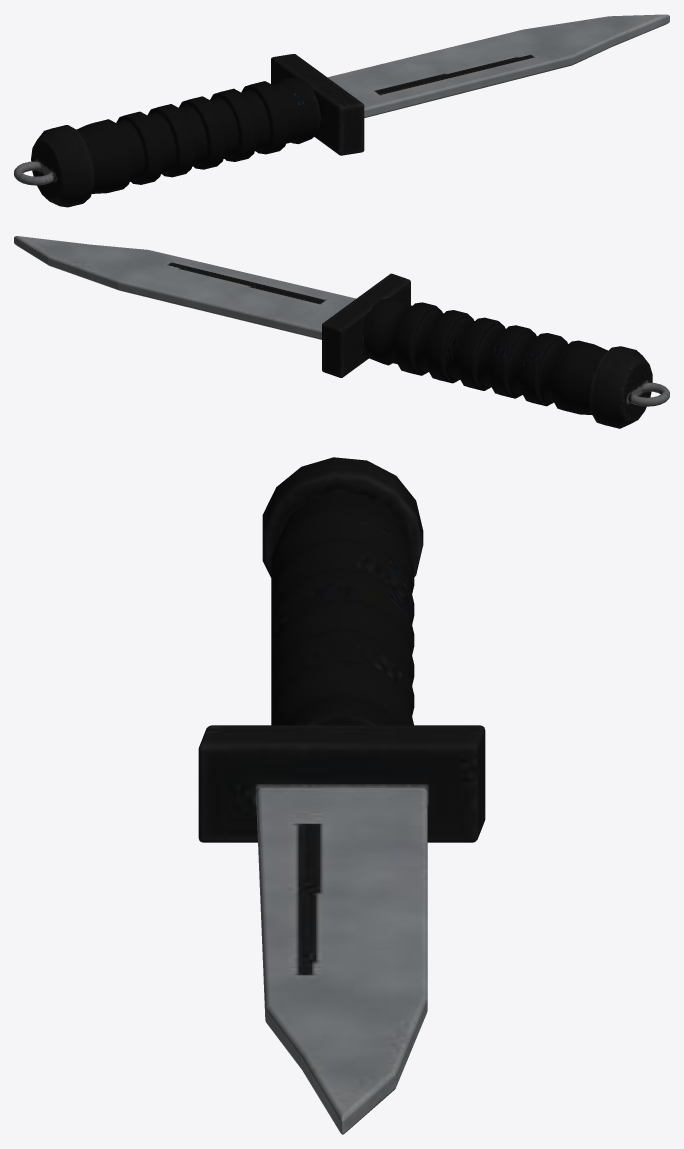
File: knife.glb
3 renders of one model, top to bottom at view 1: azimuth 30°, elevation 25°; view 2: azimuth 150°, elevation 25°; view 3: azimuth 270°, elevation 25°, orthographic. The views are drawn at different scales.
Visible parts, largest first — view 1: knife; view 2: knife; view 3: knife.
Part boxes in pixels (x1,y1,x2,y2): knife: (14,14,669,207); knife: (14,236,669,428); knife: (198,457,485,1134).
Bounding box in the file's own units: 0.3343 × 0.0358 × 0.0636.
1 material, 1 textured.
